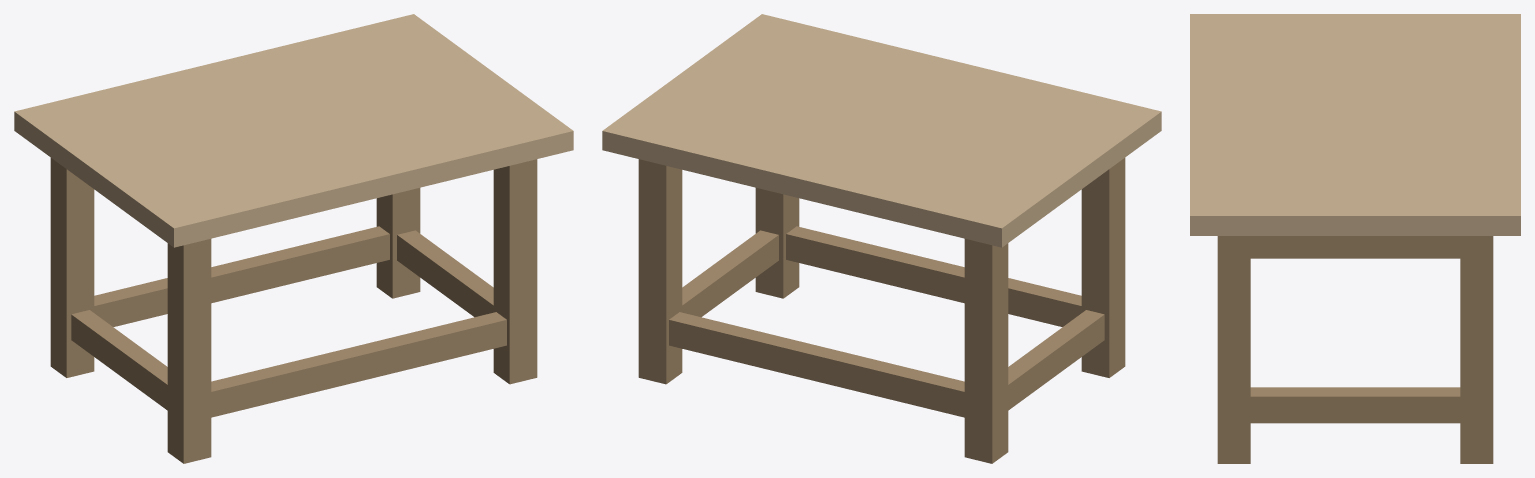
File: 18-Casas_mesa_madera.glb
3 views of the same model, side by side, from view 1: azimuth 30°, elevation 25°; view 2: azimuth 150°, elevation 25°; view 3: azimuth 270°, elevation 25° (orthographic). The views are drawn at different scales.
Visible parts, largest first — view 1: SM_Mesa_M_Mueble_Madera_Clara, SM_Mesa_M_Mueble_Madera_Oscura; view 2: SM_Mesa_M_Mueble_Madera_Clara, SM_Mesa_M_Mueble_Madera_Oscura; view 3: SM_Mesa_M_Mueble_Madera_Clara, SM_Mesa_M_Mueble_Madera_Oscura.
Part boxes in pixels (<box>): SM_Mesa_M_Mueble_Madera_Clara: <box>14,14,573,247</box>; SM_Mesa_M_Mueble_Madera_Oscura: <box>50,158,537,463</box>; SM_Mesa_M_Mueble_Madera_Clara: <box>602,14,1161,247</box>; SM_Mesa_M_Mueble_Madera_Oscura: <box>638,158,1125,463</box>; SM_Mesa_M_Mueble_Madera_Clara: <box>1190,14,1520,235</box>; SM_Mesa_M_Mueble_Madera_Oscura: <box>1217,236,1493,463</box>.
Bounding box in the file's own units: 1.3 × 0.78 × 0.9.
